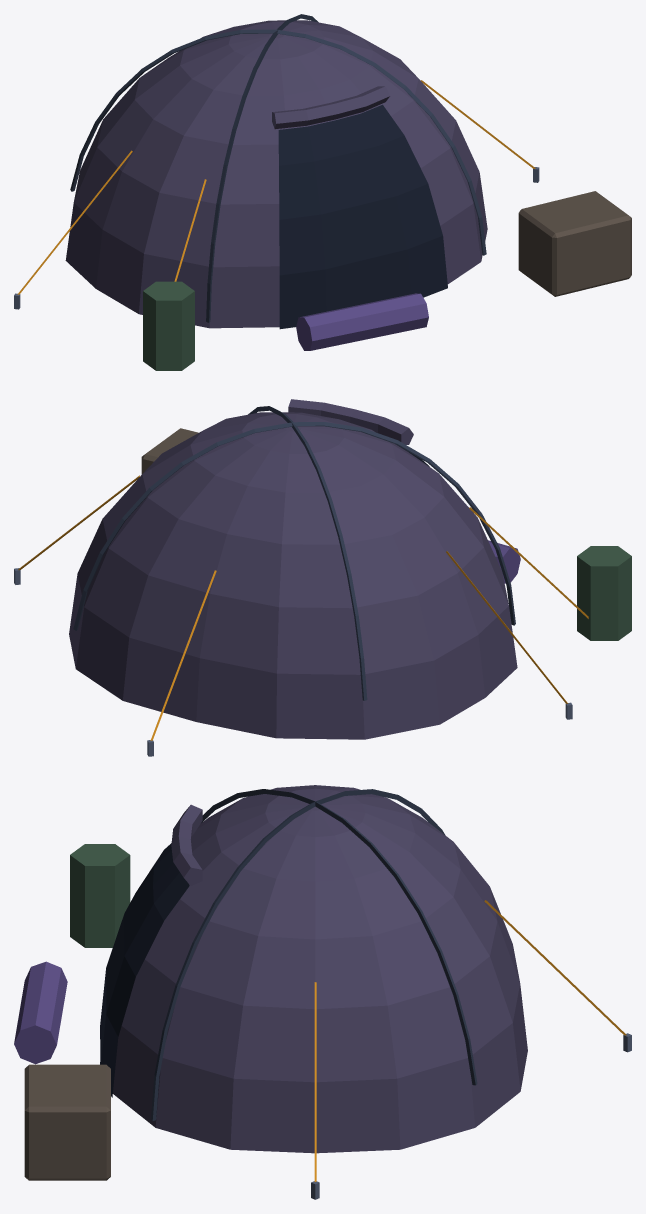
File: hw_camp_tent_dome.glb
3 views of the same model, one above another, from view 1: azimuth 30°, elevation 25°; view 2: azimuth 150°, elevation 25°; view 3: azimuth 270°, elevation 25° (orthographic). The views are drawn at different scales.
Parts seen in each view (by area): view 1: fly, door, crate, sleeping_roll, pole, jerrycan, guy_line; view 2: fly, pole, jerrycan, guy_line, crate, sleeping_roll; view 3: fly, crate, door, jerrycan, pole, sleeping_roll, guy_line.
Boxes of the visible parts, bbox=[...] form: fly: bbox=[65, 20, 487, 328]; door: bbox=[278, 104, 447, 329]; crate: bbox=[518, 191, 631, 296]; sleeping_roll: bbox=[296, 293, 428, 350]; pole: bbox=[70, 14, 486, 322]; jerrycan: bbox=[143, 281, 194, 370]; guy_line: bbox=[17, 80, 535, 294]; fly: bbox=[69, 399, 517, 739]; pole: bbox=[73, 406, 515, 700]; jerrycan: bbox=[577, 546, 631, 640]; guy_line: bbox=[18, 475, 588, 740]; crate: bbox=[141, 428, 198, 474]; sleeping_roll: bbox=[488, 540, 520, 583]; fly: bbox=[113, 785, 527, 1153]; crate: bbox=[24, 1064, 110, 1180]; door: bbox=[100, 843, 189, 1097]; jerrycan: bbox=[70, 844, 130, 947]; pole: bbox=[151, 789, 477, 1121]; sleeping_roll: bbox=[14, 961, 67, 1064]; guy_line: bbox=[314, 900, 626, 1181].
Bounding box in the file's own units: 3.28 × 1.28 × 2.87.
